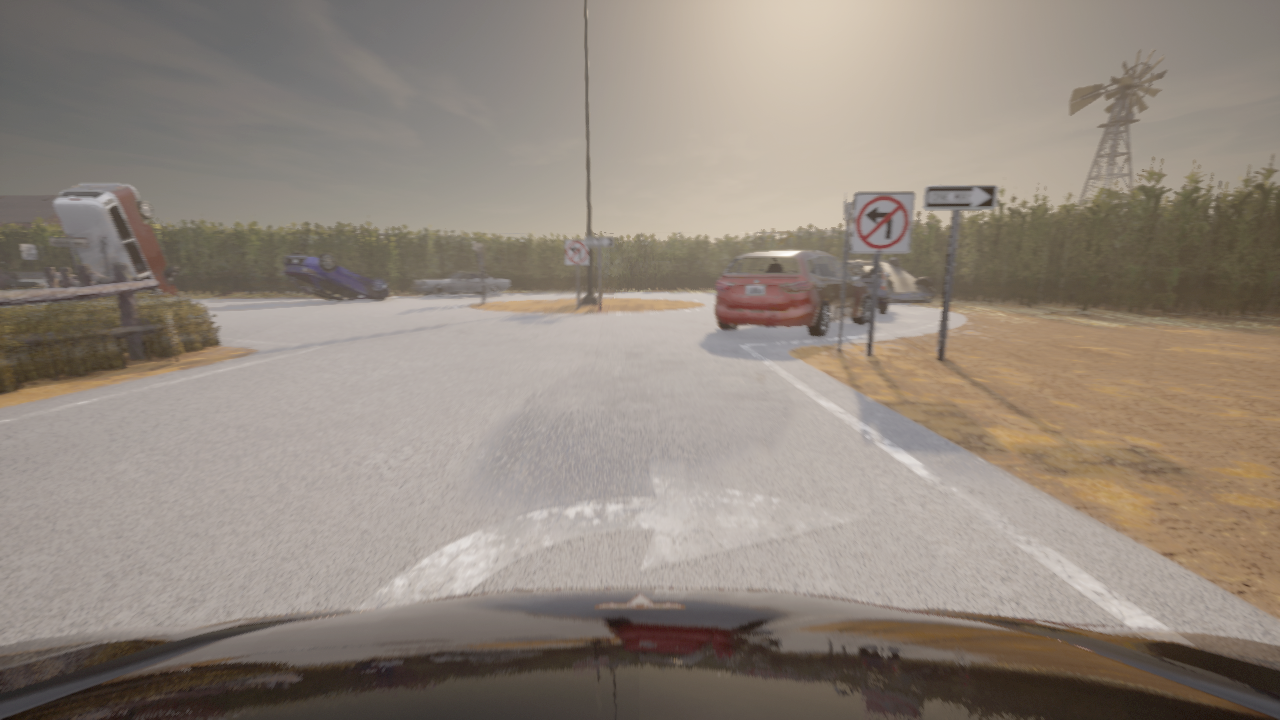cyclist: (0, 588, 1279, 719), (53, 183, 179, 298), (715, 250, 869, 337), (282, 252, 388, 300), (880, 258, 936, 304), (842, 260, 889, 314), (411, 272, 508, 297), (3, 271, 62, 289)
